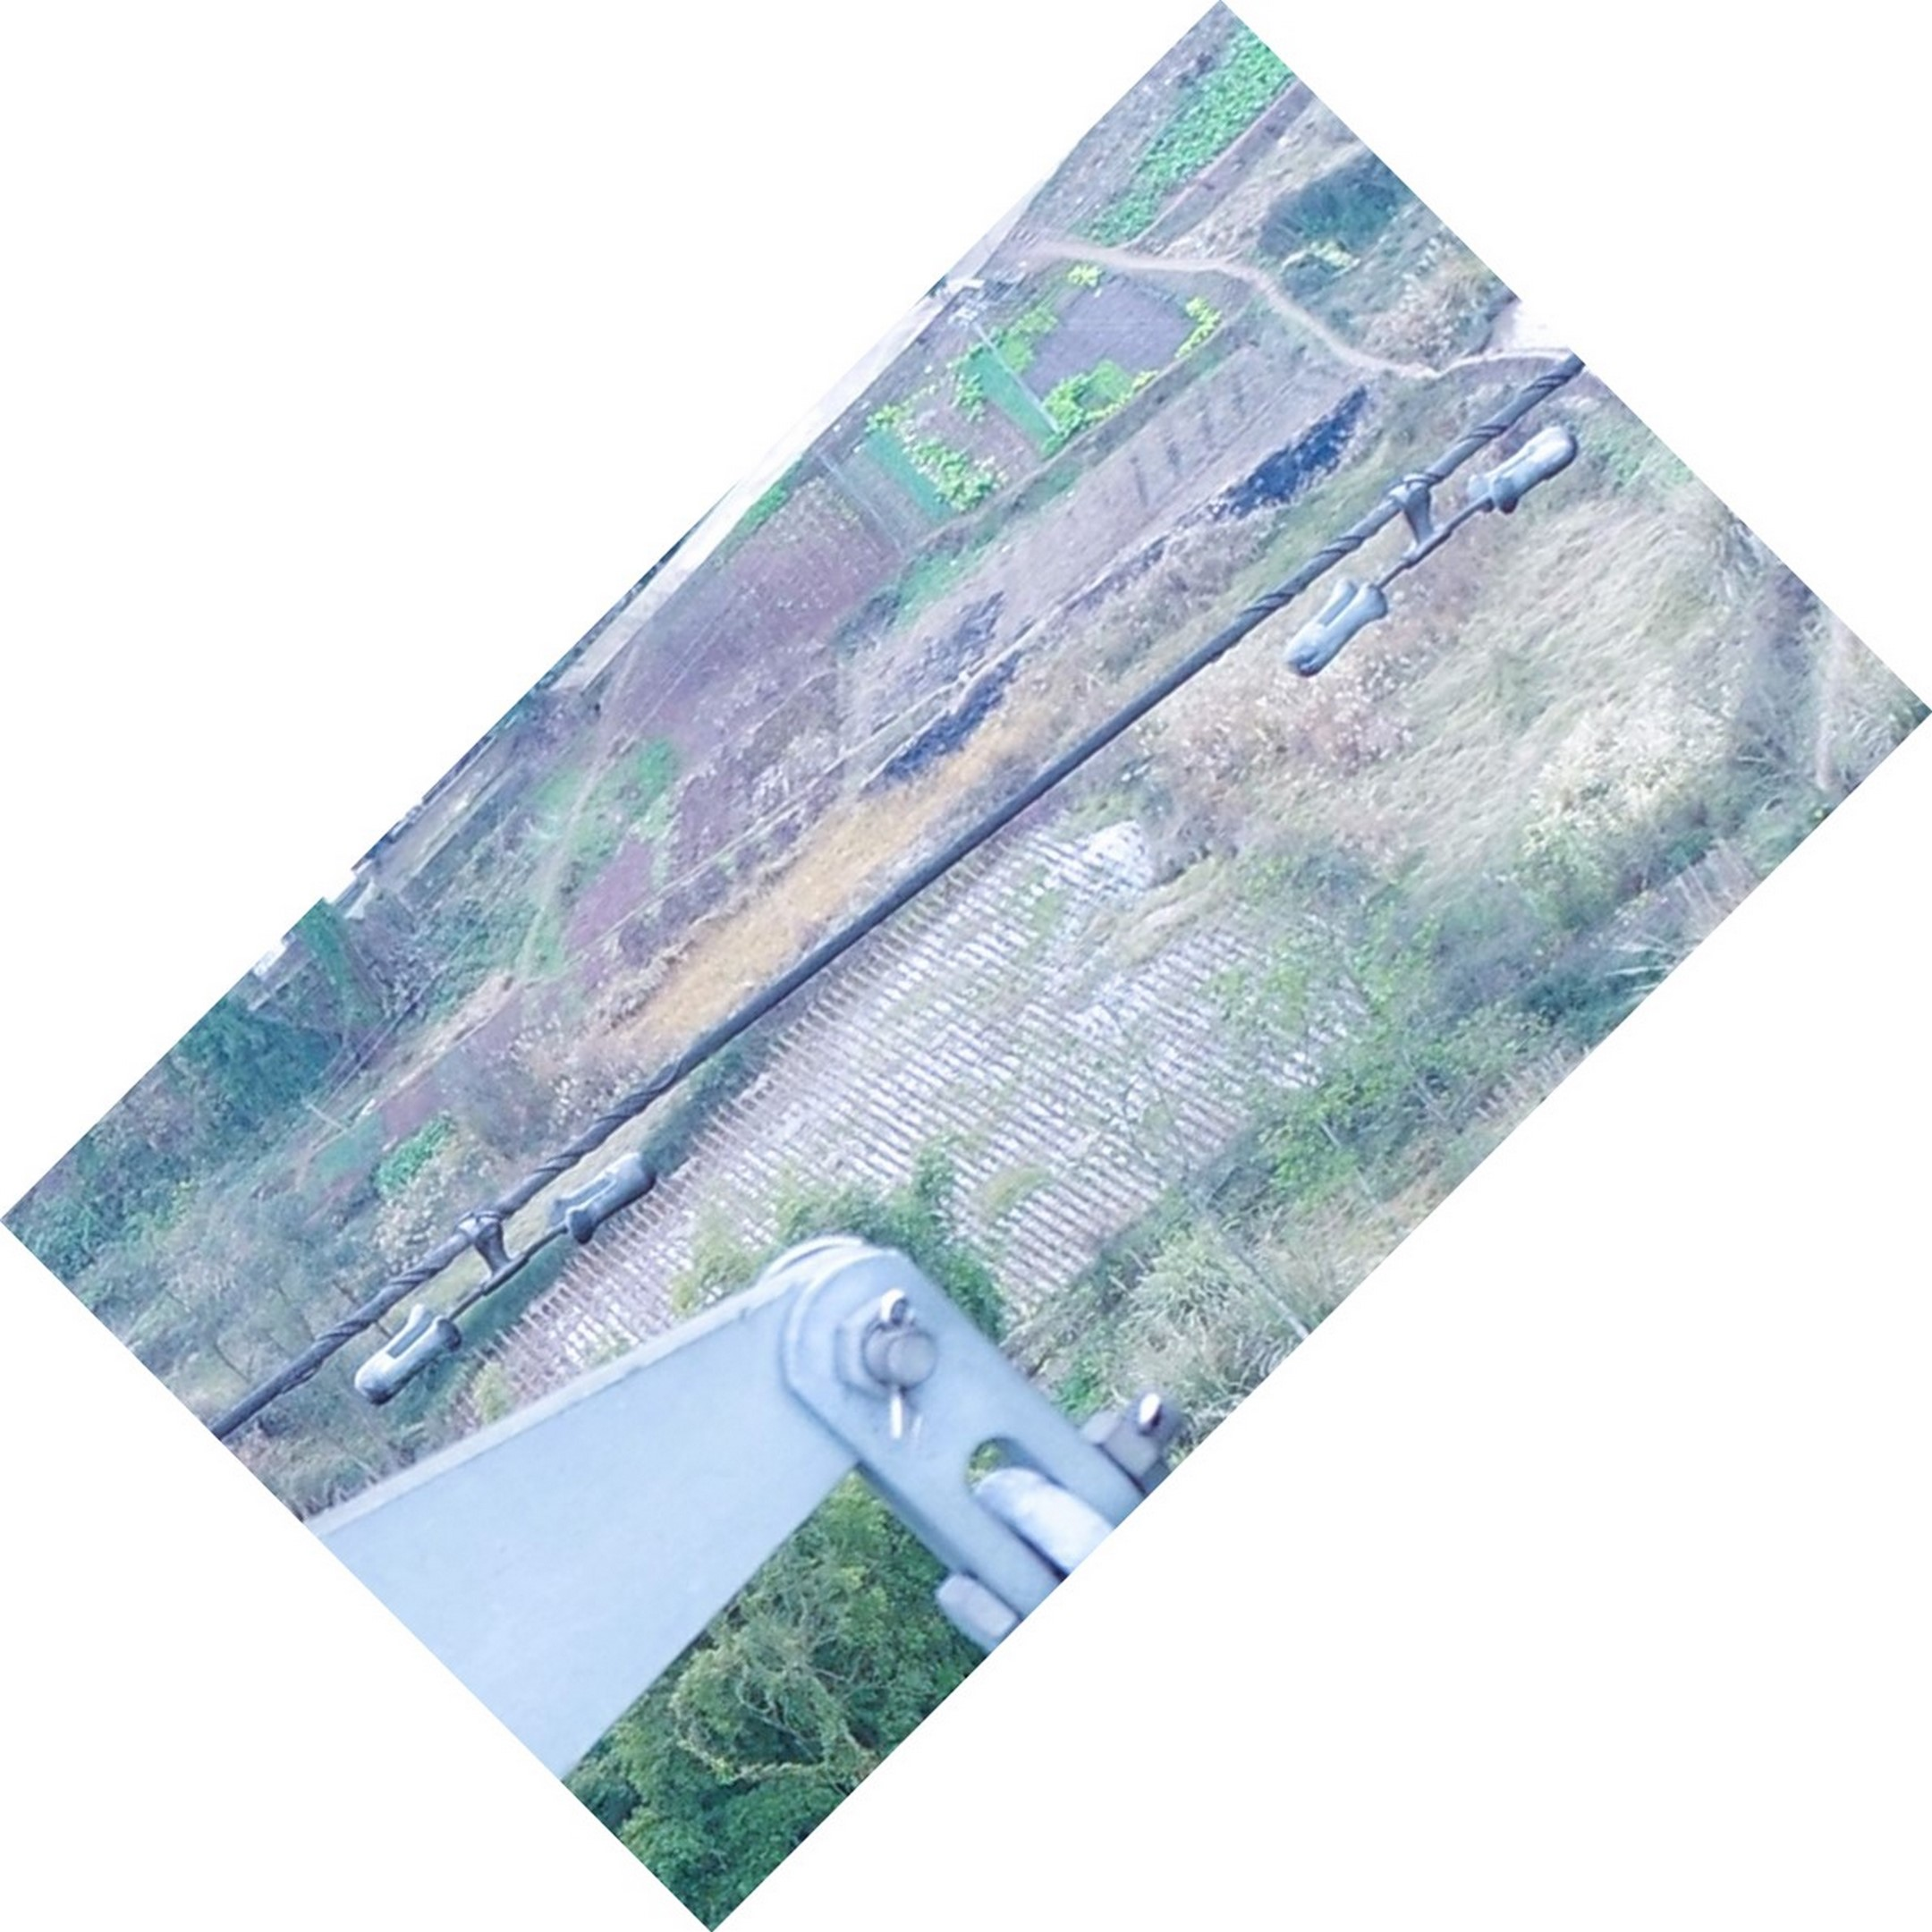Shockproof hammer: (334, 1120, 686, 1422), (1256, 407, 1606, 694)
